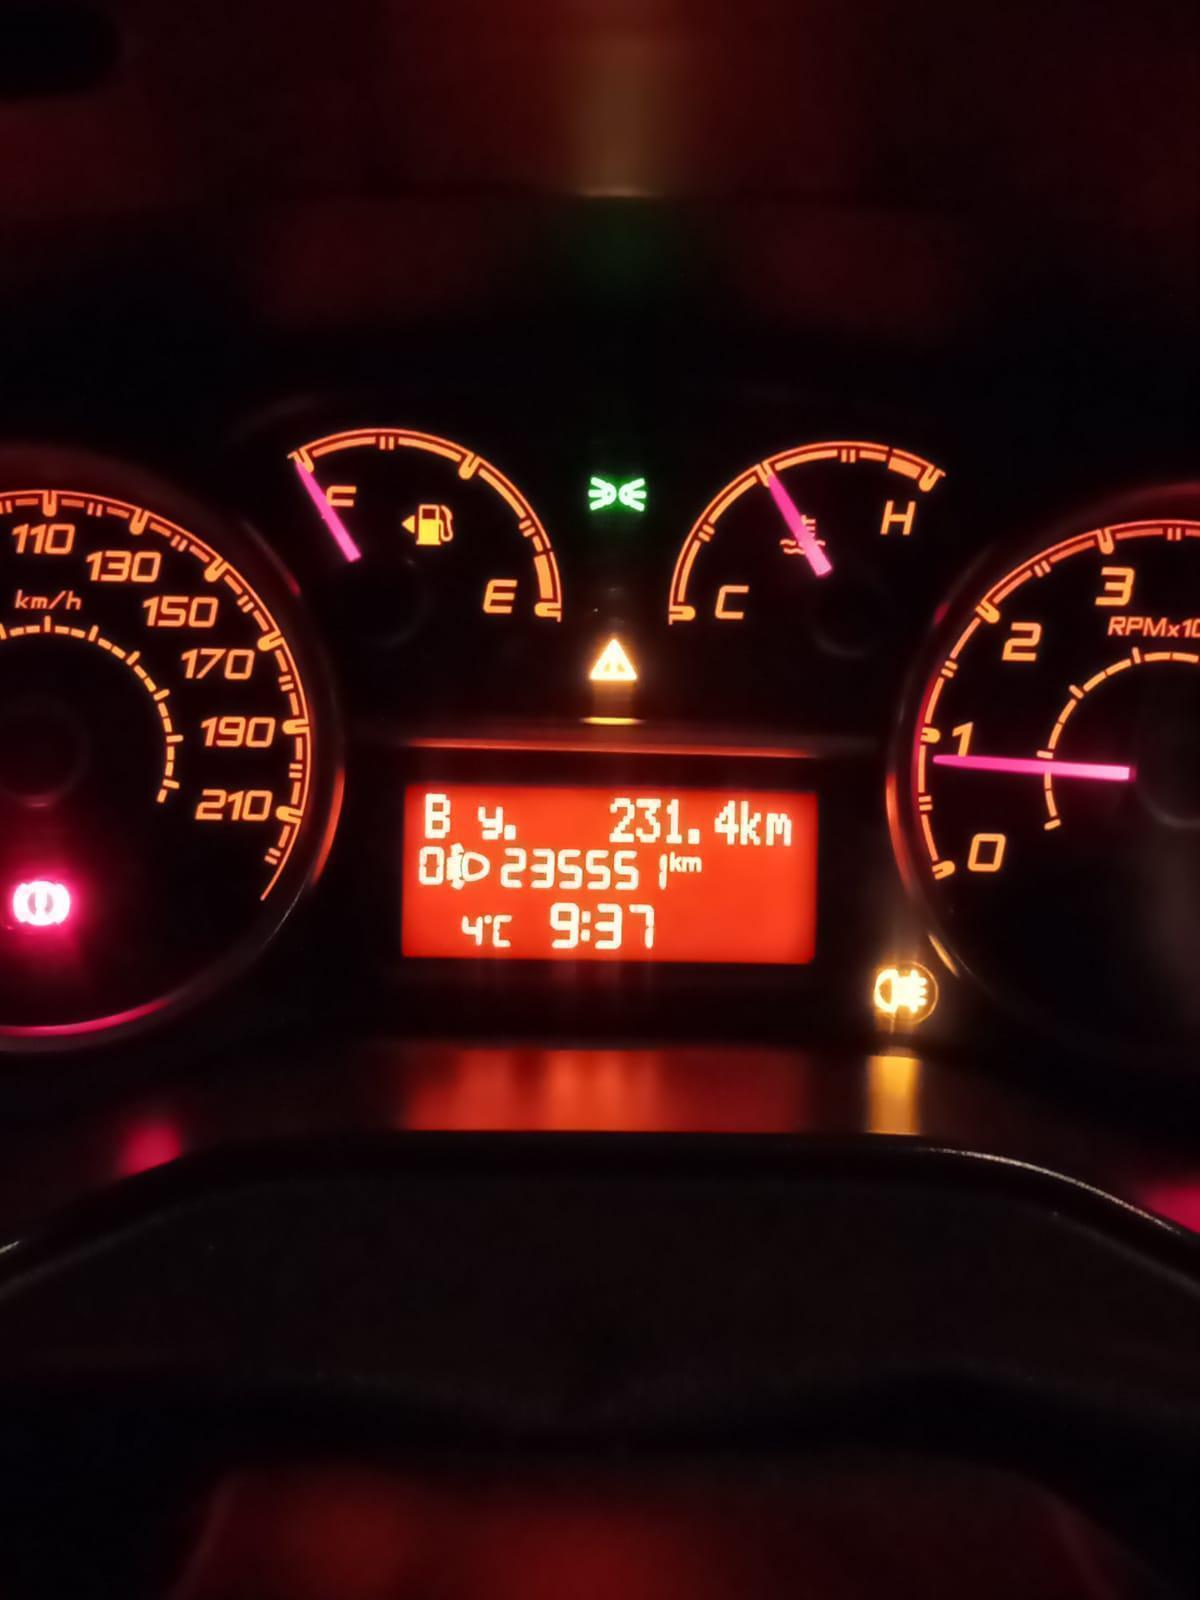,: (686, 826, 700, 845), (503, 823, 517, 842)
0: (417, 844, 446, 886)
1: (664, 797, 683, 844), (657, 852, 669, 891)
2: (608, 796, 635, 843), (498, 847, 527, 889)
3: (592, 902, 623, 951), (635, 797, 662, 844), (529, 847, 555, 888)
4: (712, 799, 737, 847), (459, 913, 485, 947)
5: (613, 848, 640, 891), (584, 848, 611, 891), (558, 848, 584, 889)
7: (626, 902, 655, 950)
9: (547, 900, 580, 950)
X: (422, 791, 453, 840), (739, 797, 763, 847), (475, 803, 504, 840), (764, 811, 793, 848), (492, 913, 514, 949), (679, 855, 703, 873), (580, 910, 592, 942), (668, 850, 681, 873)
odometer: (391, 774, 824, 976)
